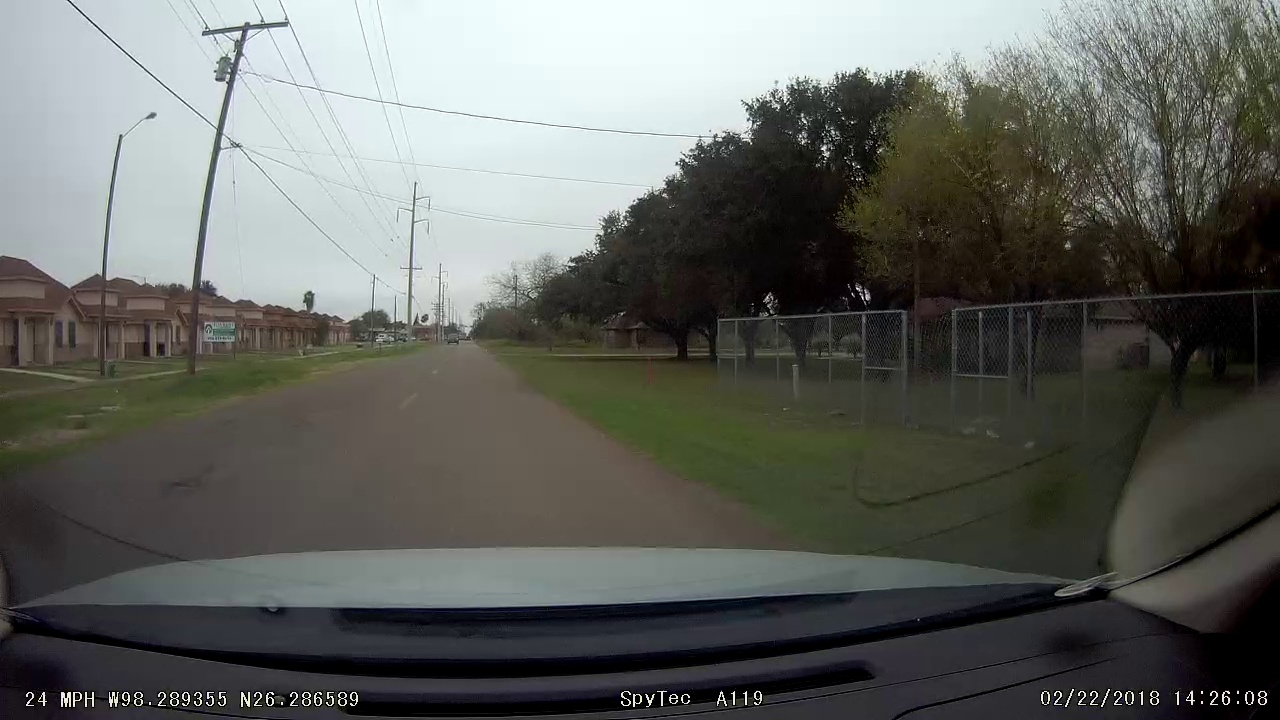pothole: (160, 470, 205, 498)
